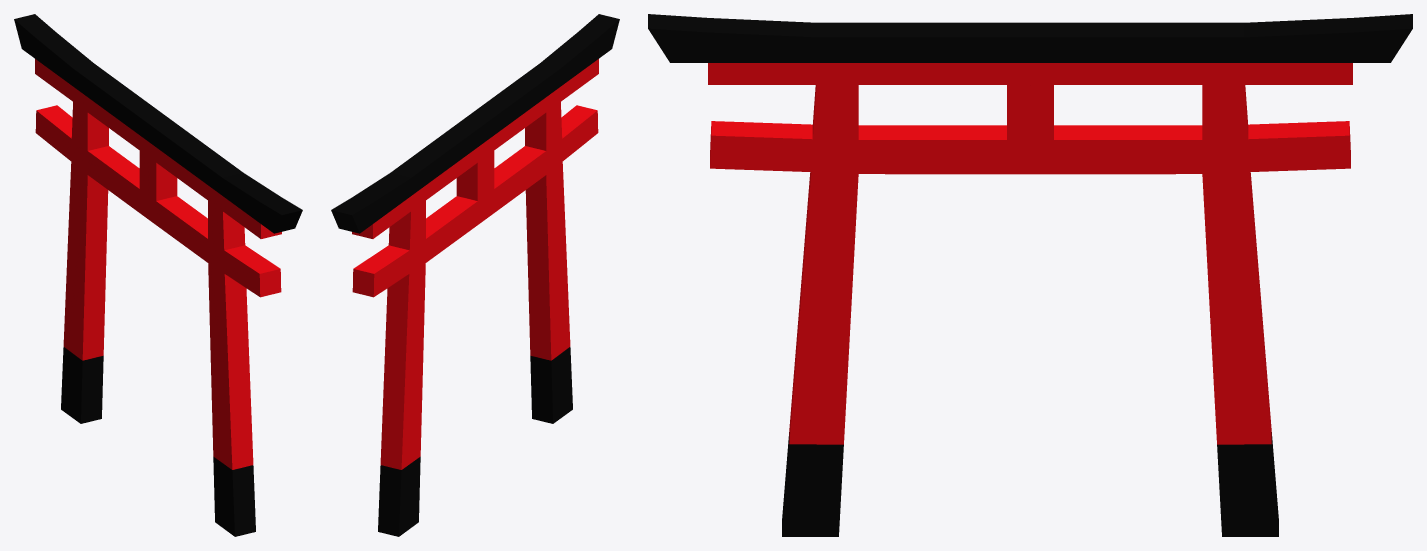
Rendered from Torii.fbx.
The picture shows the model from 3 angles, left to right: view 1: azimuth 30°, elevation 25°; view 2: azimuth 150°, elevation 25°; view 3: azimuth 270°, elevation 25°; orthographic projection. The views are drawn at different scales.
Parts seen in each view (by area): view 1: 立方体; view 2: 立方体; view 3: 立方体.
Part boxes in pixels (x1,y1,x2,y2): 立方体: (14,14,302,536); 立方体: (331,14,619,536); 立方体: (648,14,1412,536).
Bounding box in the file's own units: 17.7 × 287 × 391.
